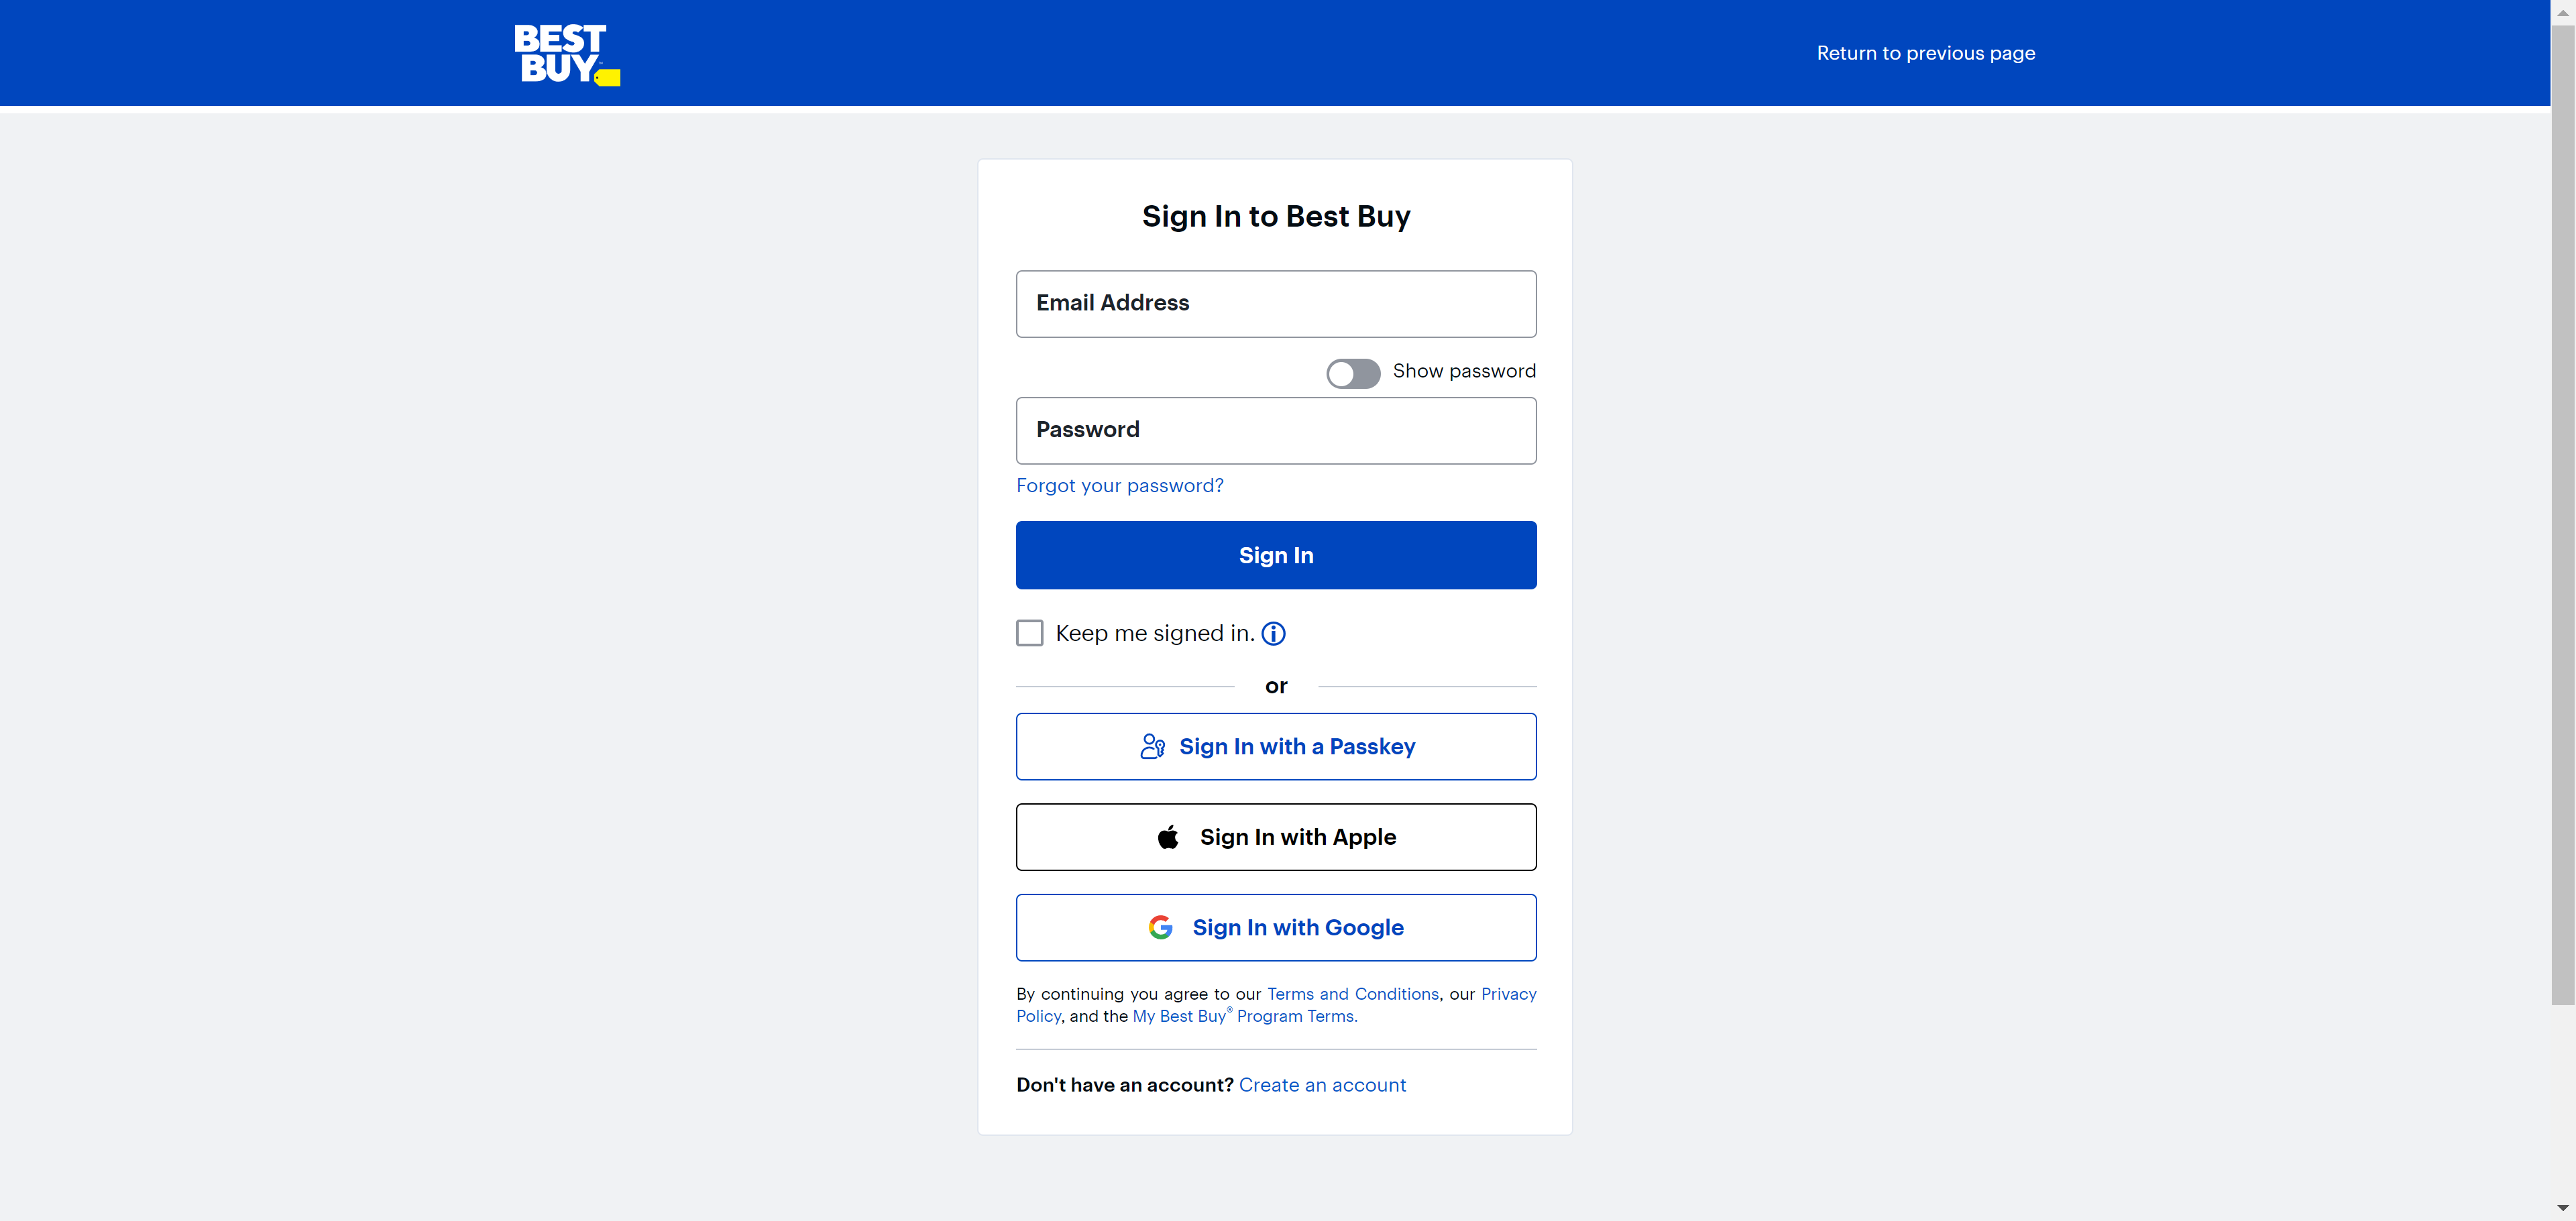login_button: (1015, 521, 1538, 588)
login_form: (1009, 263, 1543, 595)
